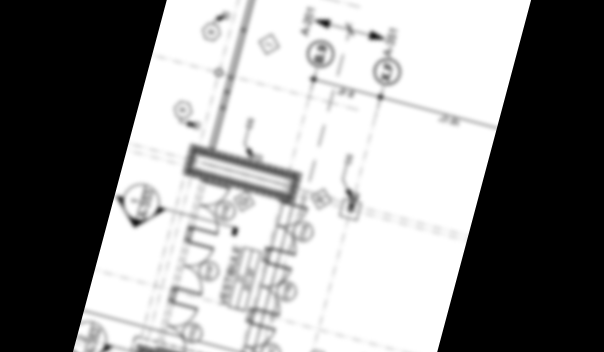double door: (190, 177, 232, 236), (175, 238, 216, 298), (269, 197, 309, 258), (252, 259, 292, 318), (157, 298, 199, 352), (237, 320, 277, 352)
